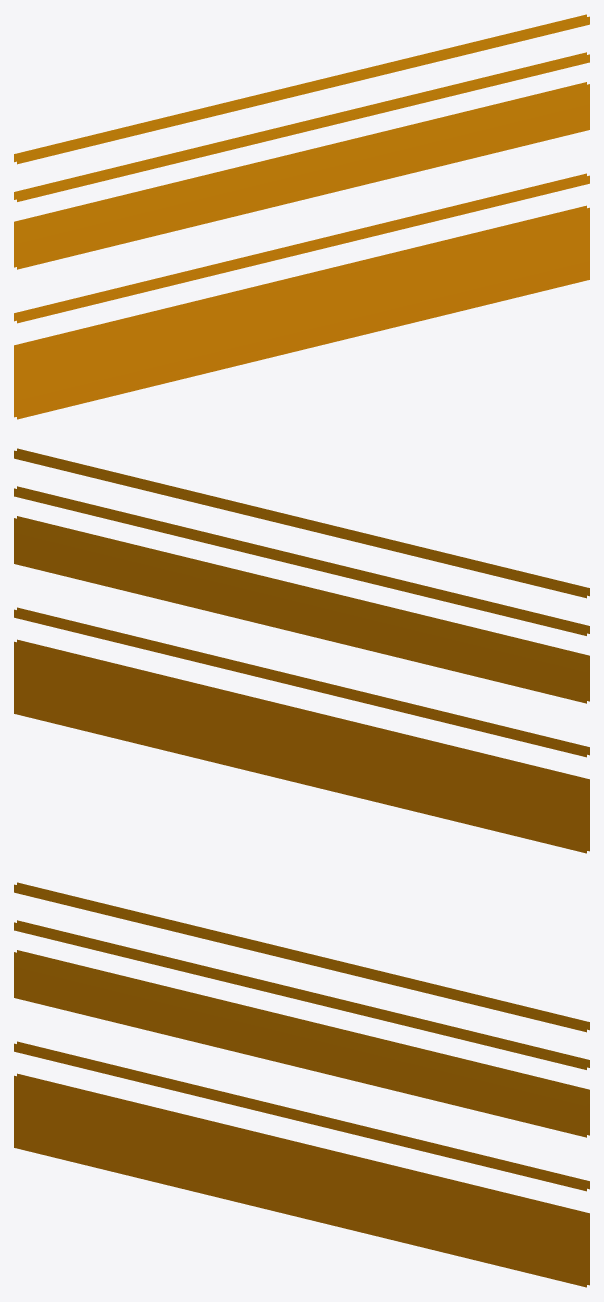
Rendered from Barriaer_008_laser_001.fbx.
3 views of the same model, one above another, from view 1: azimuth 30°, elevation 25°; view 2: azimuth 150°, elevation 25°; view 3: azimuth 330°, elevation 25° (orthographic).
Visible parts, largest first — view 1: Barriaer_008_laser_001; view 2: Barriaer_008_laser_001; view 3: Barriaer_008_laser_001.
Boxes of the visible parts, bbox=[...] form: Barriaer_008_laser_001: bbox=[14, 14, 589, 419]; Barriaer_008_laser_001: bbox=[14, 448, 589, 853]; Barriaer_008_laser_001: bbox=[14, 882, 589, 1287].
Size of the model in its own units: 138 by 1.2 by 60.38.
